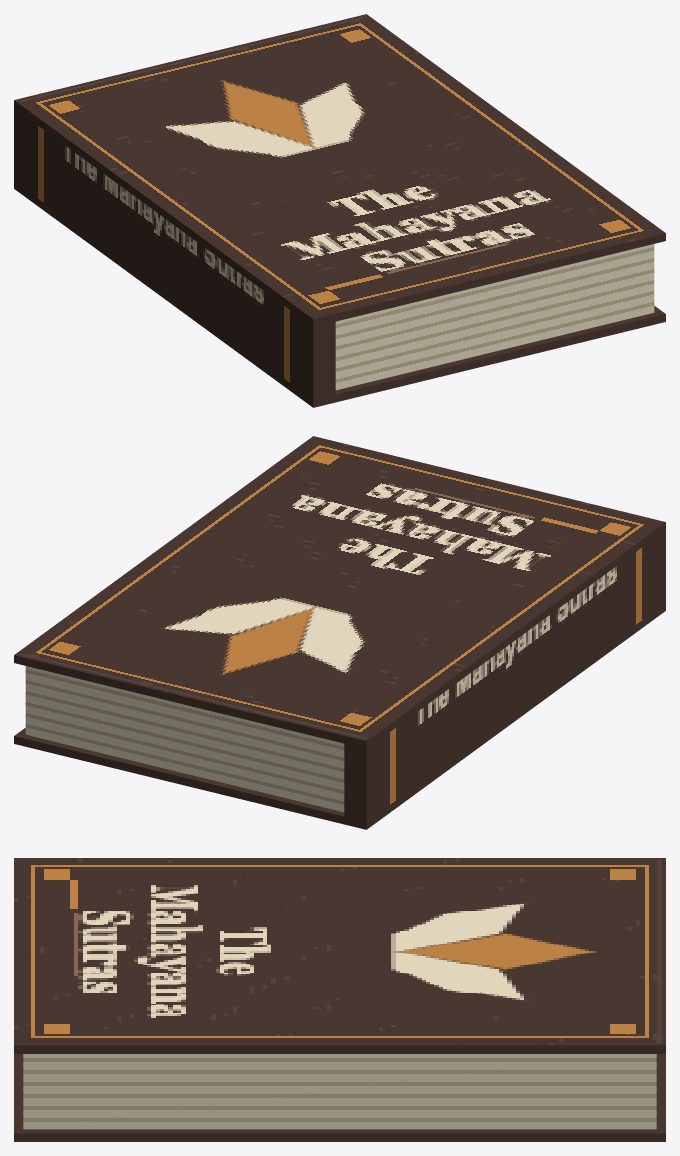
File: holybook_mahayana.glb
3 views of the same model, one above another, from view 1: azimuth 30°, elevation 25°; view 2: azimuth 150°, elevation 25°; view 3: azimuth 270°, elevation 25° (orthographic). The views are drawn at different scales.
Visible parts, largest first — view 1: block_front cover, block_spine, block_page block, block_back cover; view 2: block_front cover, block_spine, block_page block, block_back cover; view 3: block_front cover, block_page block, block_back cover.
Boxes of the visible parts, box(x1,y1,x2,y2) form: block_front cover: box(14, 14, 665, 326); block_spine: box(14, 108, 335, 399); block_page block: box(335, 244, 654, 390); block_back cover: box(14, 181, 665, 407); block_front cover: box(14, 436, 665, 748); block_spine: box(344, 530, 665, 821); block_page block: box(25, 666, 344, 812); block_back cover: box(14, 603, 665, 829); block_front cover: box(14, 858, 665, 1053); block_page block: box(23, 1054, 656, 1129); block_back cover: box(14, 1054, 665, 1141).
Bounding box in the file's own units: 0.1414 × 0.034 × 0.208.
Materials: 1 (1 with a texture image).
